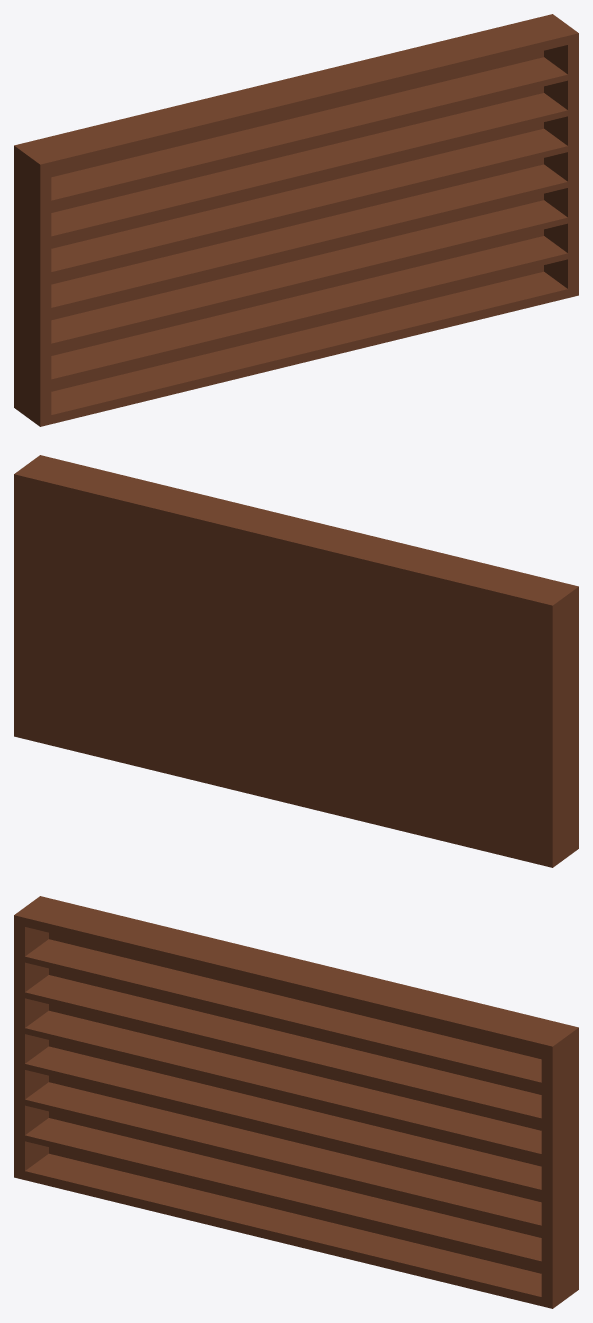
Rendered from Bookshelf 2.fbx.
3 views of the same model, one above another, from view 1: azimuth 30°, elevation 25°; view 2: azimuth 150°, elevation 25°; view 3: azimuth 330°, elevation 25° (orthographic).
Parts seen in each view (by area): view 1: Bookshelf; view 2: Bookshelf; view 3: Bookshelf.
Boxes of the visible parts, x1=… form: Bookshelf: x1=14, y1=14, x2=578, y2=426; Bookshelf: x1=14, y1=455, x2=578, y2=867; Bookshelf: x1=14, y1=896, x2=578, y2=1308.
Bounding box in the file's own units: 2445 × 206 × 1138.
